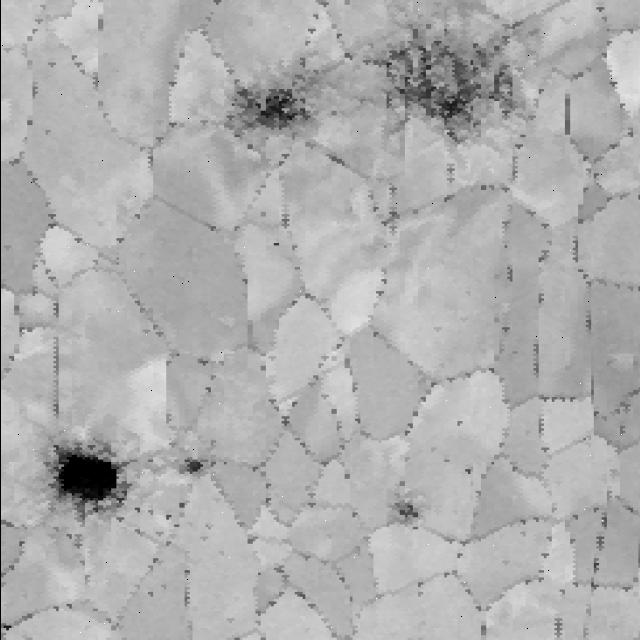good_void: (366, 9, 522, 158), (222, 55, 338, 146), (38, 430, 143, 521), (381, 480, 430, 550), (170, 454, 213, 479), (265, 222, 287, 256), (448, 408, 469, 433), (459, 458, 478, 485)
